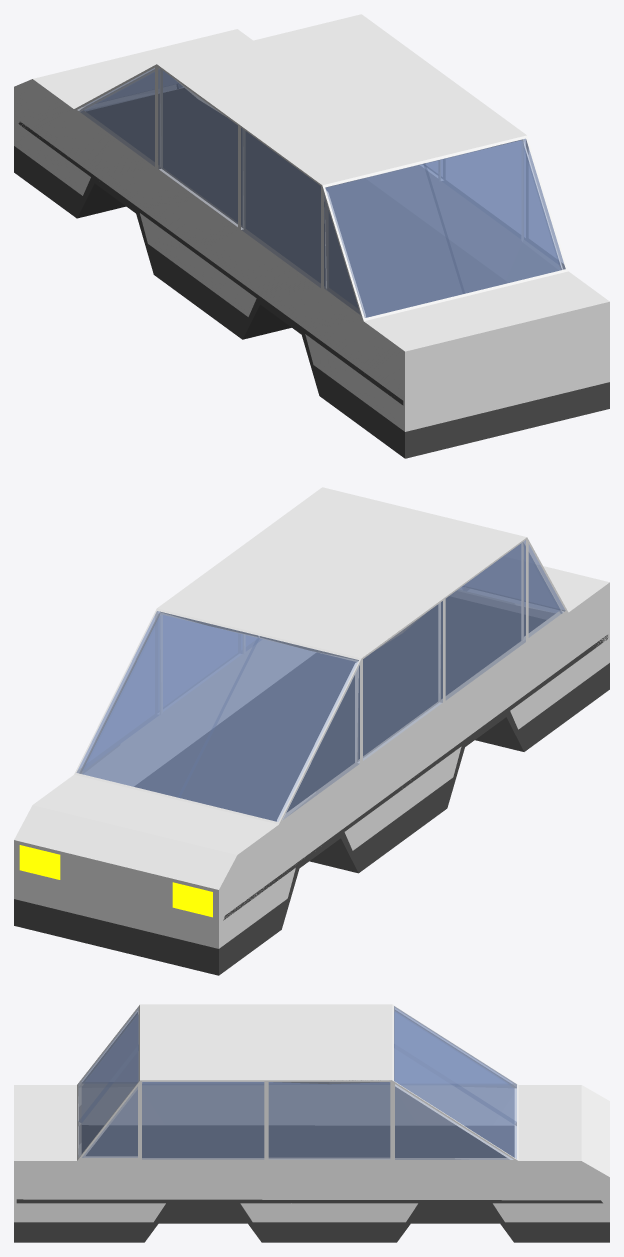
The model's file is car.fbx.
The picture shows the model from 3 angles, top to bottom: view 1: azimuth 30°, elevation 25°; view 2: azimuth 150°, elevation 25°; view 3: azimuth 270°, elevation 25°; orthographic projection. The views are drawn at different scales.
Visible parts, largest first — view 1: Cube; view 2: Cube; view 3: Cube.
Part boxes in pixels (bbox=[...]): Cube: bbox=[14, 14, 609, 458]; Cube: bbox=[14, 487, 609, 975]; Cube: bbox=[14, 1004, 609, 1242].
Size of the model in its own units: 400 by 397 by 1323.
